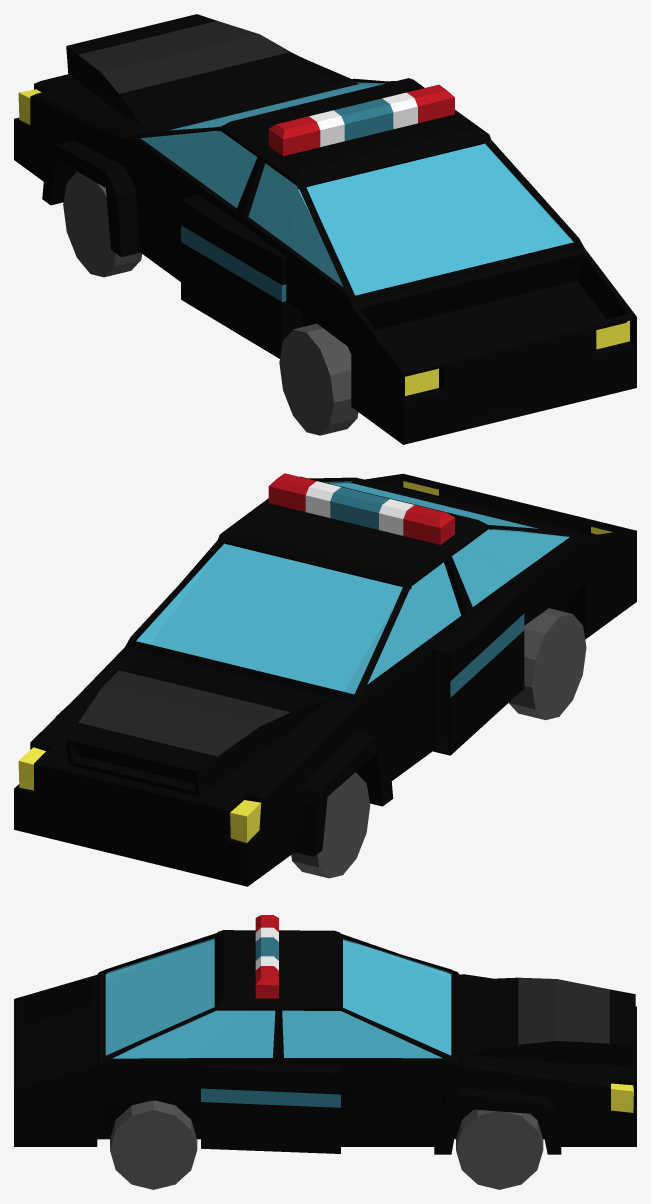
The model's file is PoliceCar.fbx.
The picture shows the model from 3 angles, top to bottom: view 1: azimuth 30°, elevation 25°; view 2: azimuth 150°, elevation 25°; view 3: azimuth 270°, elevation 25°; orthographic projection. The views are drawn at different scales.
Visible parts, largest first — view 1: Police+.001; view 2: Police+.001; view 3: Police+.001.
Part boxes in pixels (x1=…): Police+.001: x1=14, y1=14, x2=636, y2=444; Police+.001: x1=14, y1=473, x2=636, y2=886; Police+.001: x1=14, y1=915, x2=636, y2=1189.
Size of the model in its own units: 140 by 344 by 118.
